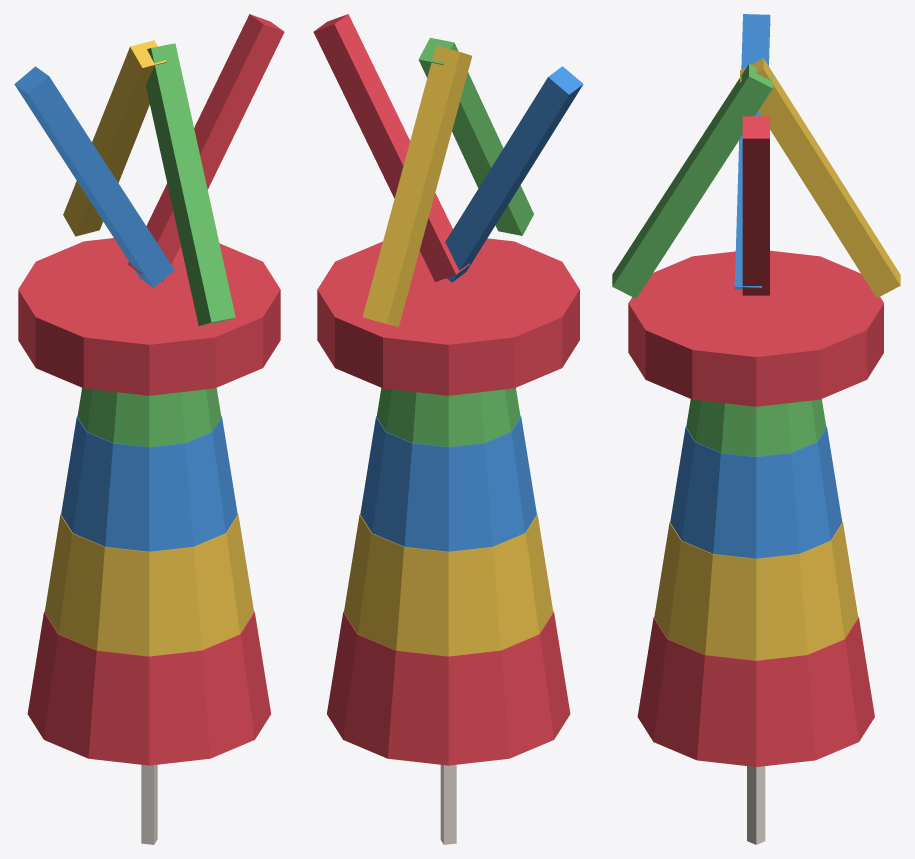
File: party_popper.glb
The picture shows the model from 3 angles, left to right: view 1: azimuth 30°, elevation 25°; view 2: azimuth 150°, elevation 25°; view 3: azimuth 270°, elevation 25°; orthographic projection. The views are drawn at different scales.
Parts seen in each view (by area): view 1: party_popper; view 2: party_popper; view 3: party_popper.
Part boxes in pixels (x1,y1,x2,y2): party_popper: [14, 14, 284, 844]; party_popper: [313, 14, 583, 844]; party_popper: [612, 14, 900, 844].
Size of the model in its own units: 0.0632 by 0.1876 by 0.0631.
